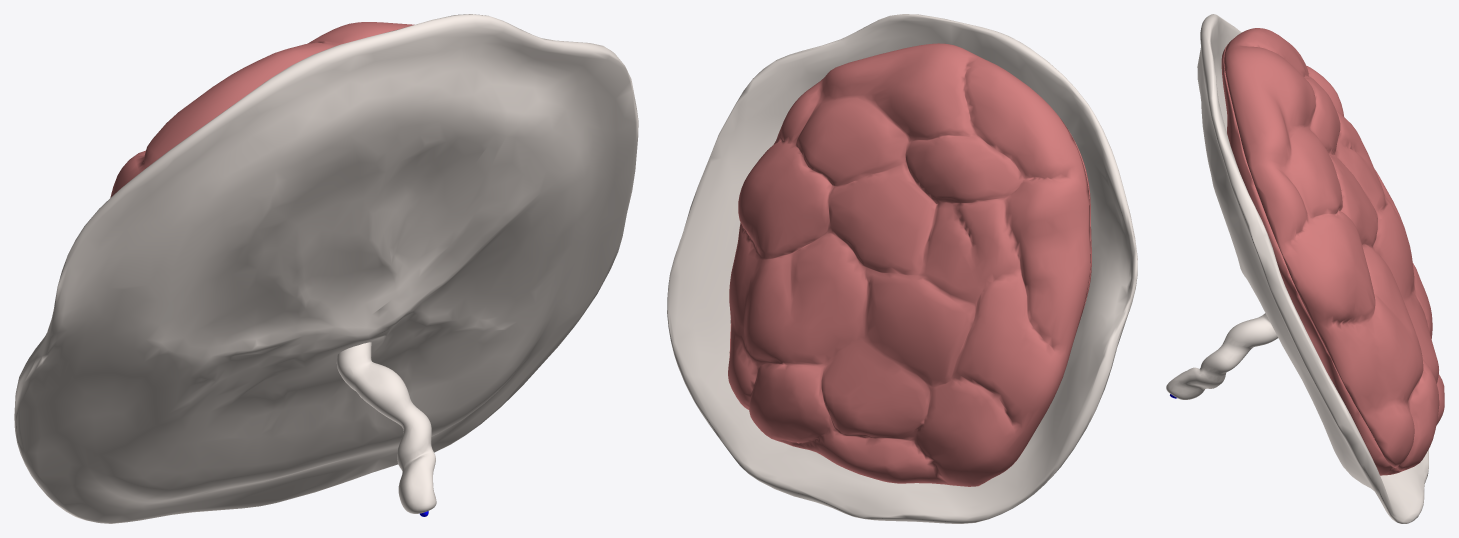
The model's file is vh_f_placenta-40.glb.
3 views of the same model, side by side, from view 1: azimuth 30°, elevation 25°; view 2: azimuth 150°, elevation 25°; view 3: azimuth 270°, elevation 25° (orthographic). The views are drawn at different scales.
Visible parts, largest first — view 1: VH_F_amnion, VH_F_basal_plate, VH_F_umbilical_cord; view 2: VH_F_basal_plate, VH_F_amnion; view 3: VH_F_basal_plate, VH_F_amnion, VH_F_chorionic_plate, VH_F_umbilical_cord.
Boxes of the visible parts, x1,y1,x2,y2 form: VH_F_amnion: (14, 14, 638, 523); VH_F_basal_plate: (110, 22, 414, 197); VH_F_umbilical_cord: (336, 342, 436, 513); VH_F_basal_plate: (728, 43, 1090, 486); VH_F_amnion: (667, 14, 1137, 523); VH_F_basal_plate: (1224, 28, 1444, 471); VH_F_amnion: (1197, 14, 1428, 523); VH_F_chorionic_plate: (1221, 46, 1400, 475); VH_F_umbilical_cord: (1166, 313, 1277, 399).
Bounding box in the file's own units: 0.2509 × 0.2305 × 0.1338.
